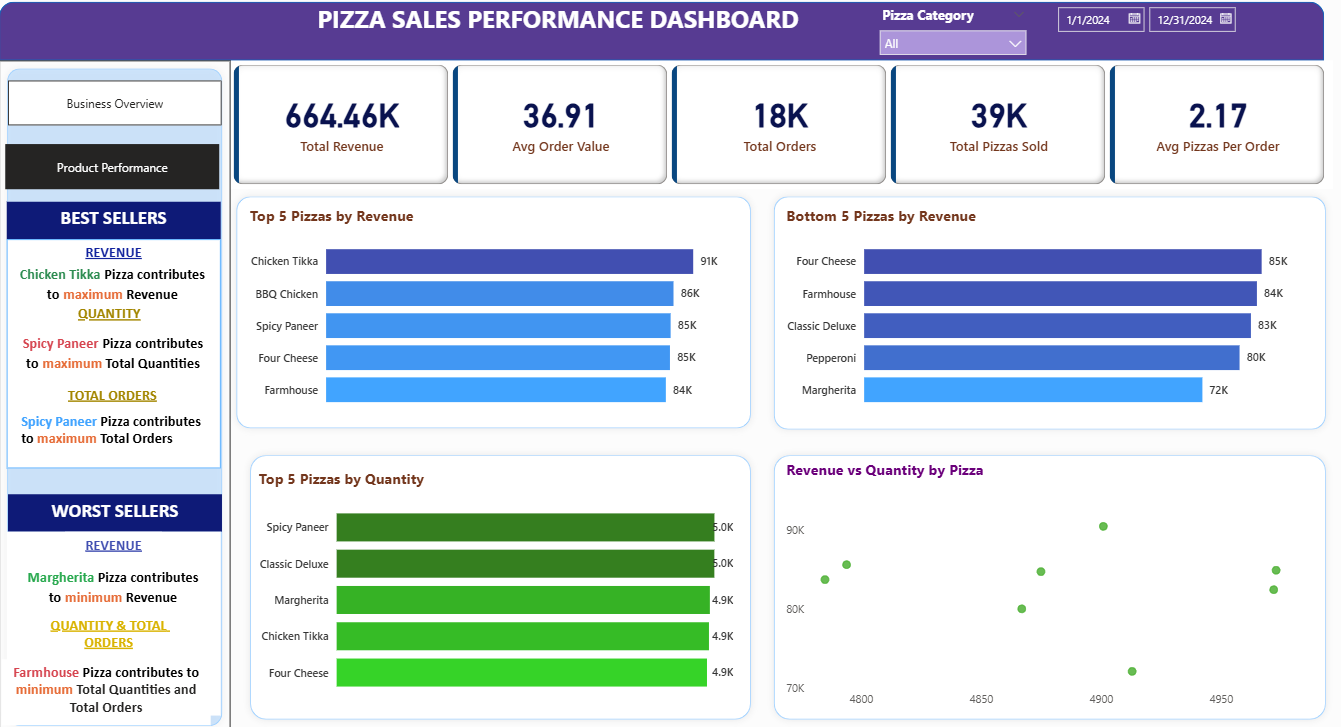

The page's visual inventory and layout, read from the dashboard file:
{"tool":"powerbi","page":{"name":"Product Performance","canvas":[1500,820],"ordinal":1},"visuals":[{"type":"cardVisual","fields":{"Data":["Pizza_Sales.Total Revenue","Pizza_Sales.Avg Order Value","Pizza_Sales.Total Orders","Pizza_Sales.Total Pizzas Sold","Pizza_Sales.Avg Pizzas Per Order"]},"box":[257.6,69.6,1229.7,143.4],"z":0},{"type":"shape","box":[20.9,4.2,1456.7,65.5],"z":1000},{"type":"textbox","box":[323.1,0,601.6,52.9],"z":2000},{"type":"shape","box":[257.6,213.1,589.1,274.4],"z":4000},{"type":"shape","box":[1.4,69.6,257.6,750.6],"z":5000},{"type":"textbox","box":[9.7,227,238.1,41.8],"z":6000},{"type":"textbox","box":[9.7,268.8,238.1,254.9],"z":7000},{"type":"textbox","box":[75.2,268.8,107.2,34.8],"z":8000},{"type":"textbox","box":[18.1,291.1,218.6,62.7],"z":9000},{"type":"textbox","box":[20.9,337,206.1,32],"z":10000},{"type":"textbox","box":[19.5,367.7,217.3,59.9],"z":11000},{"type":"textbox","box":[11.1,552.9,238.1,41.8],"z":12000},{"type":"textbox","box":[9.7,594.7,238.1,204.7],"z":13000},{"type":"textbox","box":[75.2,594.7,107.2,36.2],"z":14000},{"type":"textbox","box":[19.5,630.9,217.3,52.9],"z":15000},{"type":"textbox","box":[41.8,683.8,162.9,52.9],"z":16000},{"type":"textbox","box":[4.2,736.7,232.6,73.8],"z":17000},{"type":"slicer","fields":{"Values":["Pizza_Sales.pizza_category"]},"box":[972.1,4.2,183.8,62.7],"z":18000},{"type":"slicer","fields":{"Values":["Pizza_Sales.order_date"]},"box":[1168.5,0,249.3,69.6],"z":19000},{"type":"shape","box":[856.5,213.1,630.9,275.7],"z":20000},{"type":"shape","box":[273,501.4,573.8,310.6],"z":21000},{"type":"shape","box":[856.5,501.4,630.9,310.6],"z":22000},{"type":"barChart","title":"Top 5 Pizzas by Revenue","fields":{"Category":["Pizza_Sales.pizza_name"],"Y":["Pizza_Sales.Total Revenue"]},"box":[275.7,231.2,548.7,239.5],"z":23000},{"type":"barChart","title":"Bottom 5 Pizzas by Revenue","fields":{"Category":["Pizza_Sales.pizza_name"],"Y":["Pizza_Sales.Total Revenue"]},"box":[873.2,231.2,587.7,239.5],"z":24000},{"type":"barChart","title":"Top 5 Pizzas by Quantity","fields":{"Category":["Pizza_Sales.pizza_name"],"Y":["Pizza_Sales.Total Pizzas Sold"]},"box":[285.5,523.6,539,266],"z":25000},{"type":"textbox","box":[18.1,427.5,218.6,39],"z":26000},{"type":"textbox","box":[20.9,456.8,215.9,57.1],"z":27000},{"type":"pageNavigator","box":[11.1,91.9,238.1,50.1],"z":28000},{"type":"pageNavigator","box":[8.4,162.9,238.1,50.1],"z":29000},{"type":"scatterChart","title":"Revenue vs Quantity by Pizza","fields":{"X":["Pizza_Sales.Total Pizzas Sold"],"Y":["Pizza_Sales.Total Revenue"],"Category":["Pizza_Sales.pizza_name"]},"box":[873.2,513.9,587.7,285.5],"z":30000}]}

Visuals, with their boxes in screenshot pixels (x1, y1, x2, y2), scaled from the page's 1500x820 canvas onto the 1341x727 screenshot:
cardVisual - Pizza_Sales.Total Revenue x Pizza_Sales.Avg Order Value: 230,62,1330,189
shape: 19,4,1321,62
textbox: 289,0,827,47
shape: 230,189,757,432
shape: 1,62,232,726
textbox: 9,201,222,238
textbox: 9,238,222,464
textbox: 67,238,163,269
textbox: 16,258,212,314
textbox: 19,299,203,327
textbox: 17,326,212,379
textbox: 10,490,223,527
textbox: 9,527,222,709
textbox: 67,527,163,559
textbox: 17,559,212,606
textbox: 37,606,183,653
textbox: 4,653,212,719
slicer - Pizza_Sales.pizza_category: 869,4,1033,59
slicer - Pizza_Sales.order_date: 1045,0,1268,62
shape: 766,189,1330,433
shape: 244,445,757,720
shape: 766,445,1330,720
"Top 5 Pizzas by Revenue" barChart: 246,205,737,417
"Bottom 5 Pizzas by Revenue" barChart: 781,205,1306,417
"Top 5 Pizzas by Quantity" barChart: 255,464,737,700
textbox: 16,379,212,414
textbox: 19,405,212,456
pageNavigator: 10,81,223,126
pageNavigator: 8,144,220,189
"Revenue vs Quantity by Pizza" scatterChart: 781,456,1306,709
